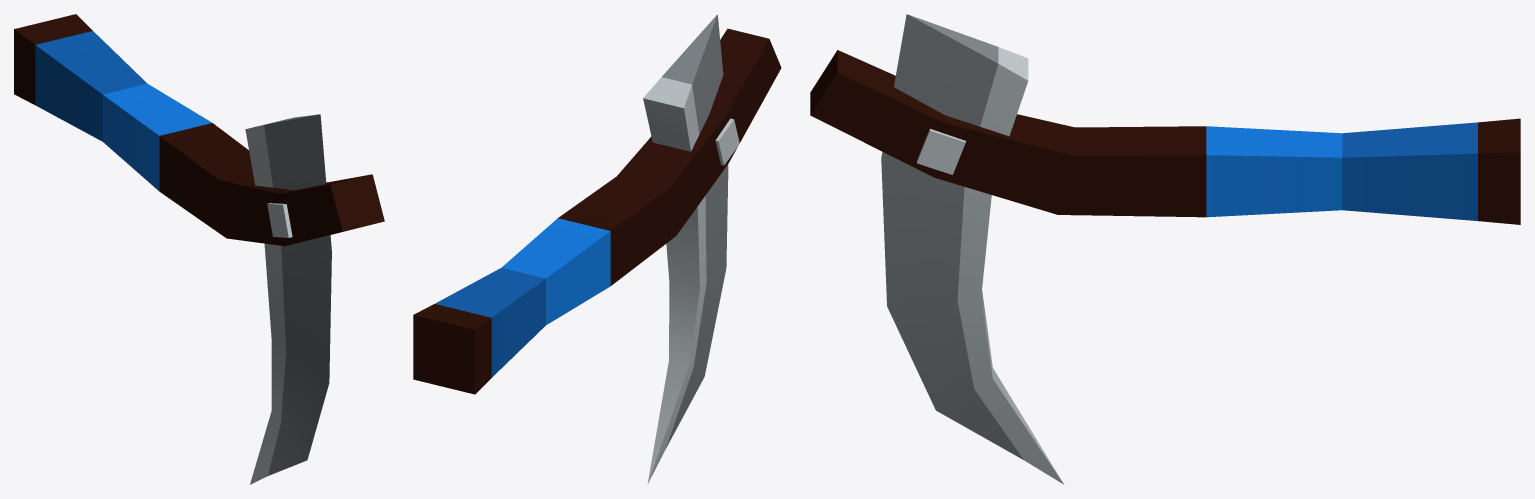
File: Scythe 02.FBX
The picture shows the model from 3 angles, left to right: view 1: azimuth 30°, elevation 25°; view 2: azimuth 150°, elevation 25°; view 3: azimuth 270°, elevation 25°; orthographic projection. The views are drawn at different scales.
Visible parts, largest first — view 1: Scythe 02; view 2: Scythe 02; view 3: Scythe 02.
Part boxes in pixels (x1=…): Scythe 02: x1=14, y1=14, x2=384, y2=484; Scythe 02: x1=413, y1=14, x2=781, y2=483; Scythe 02: x1=810, y1=14, x2=1520, y2=484.
Size of the model in its own units: 8.64 by 56.15 by 76.75.
1 material, 1 textured.
